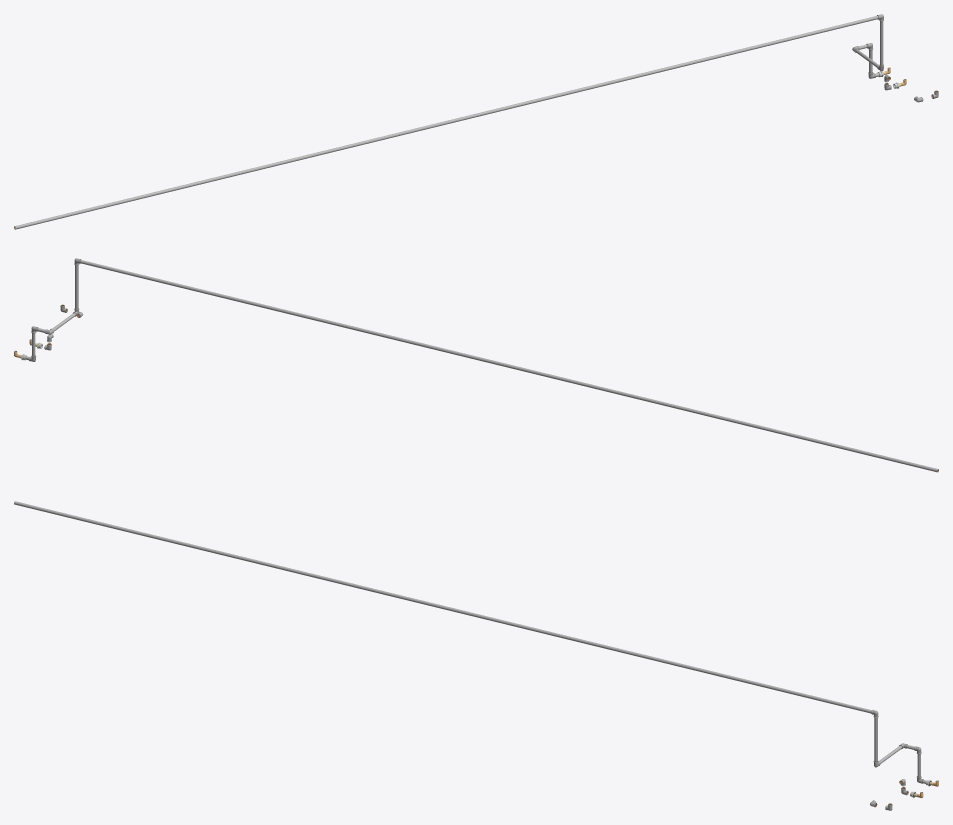
File: pipes_supply__softener-yes_and_plumbing-galvanized.glb
3 views of the same model, one above another, from view 1: azimuth 30°, elevation 25°; view 2: azimuth 150°, elevation 25°; view 3: azimuth 330°, elevation 25° (orthographic).
Parts seen in each view (by area): view 1: pipe_supply_from_softener__galvanized; view 2: pipe_supply_from_softener__galvanized; view 3: pipe_supply_from_softener__galvanized.
Boxes of the visible parts, bbox=[...] form: pipe_supply_from_softener__galvanized: bbox=[14, 16, 883, 229]; pipe_supply_from_softener__galvanized: bbox=[25, 260, 938, 472]; pipe_supply_from_softener__galvanized: bbox=[14, 501, 926, 783].
Size of the model in its own units: 7.92 by 0.7418 by 0.7625.
